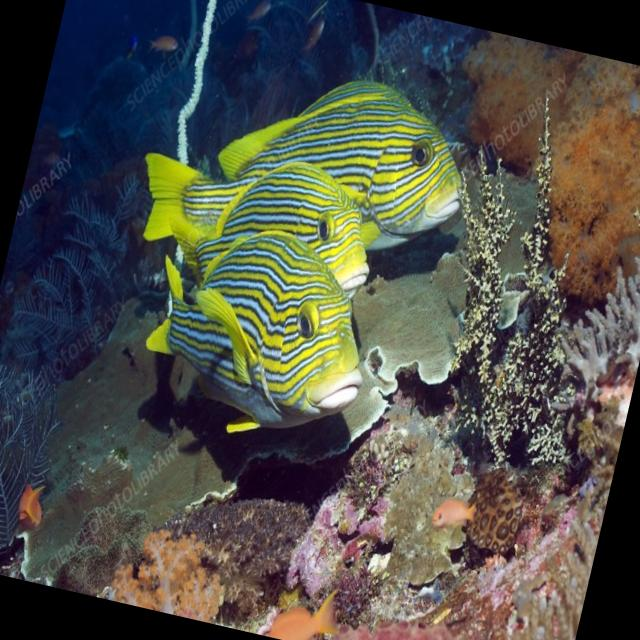RibbonedSweetlips: (126, 31, 486, 306), (130, 207, 390, 459), (157, 134, 390, 326)
